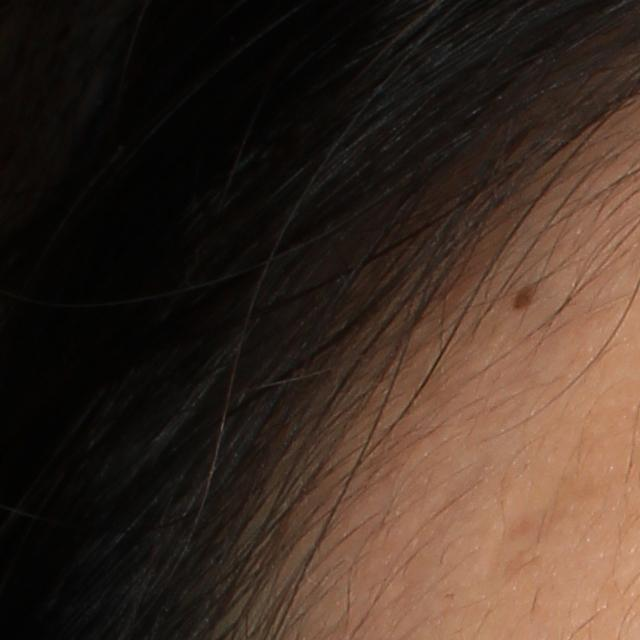nevus: (511, 277, 543, 312)
